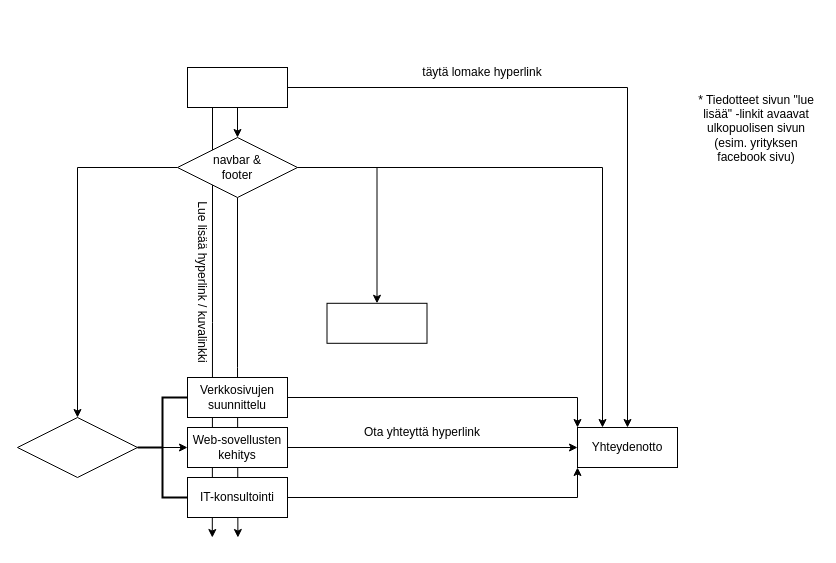
Image size: 836x563. Some labels were removed from this diagram. Here are the shapes that lost their labels. From the top down, the centre of each, then its label:
At [237,87]: "Etusivu".
At [376,322]: "Tiedotteet*".
At [77,447]: "Palvelut dropdown".
